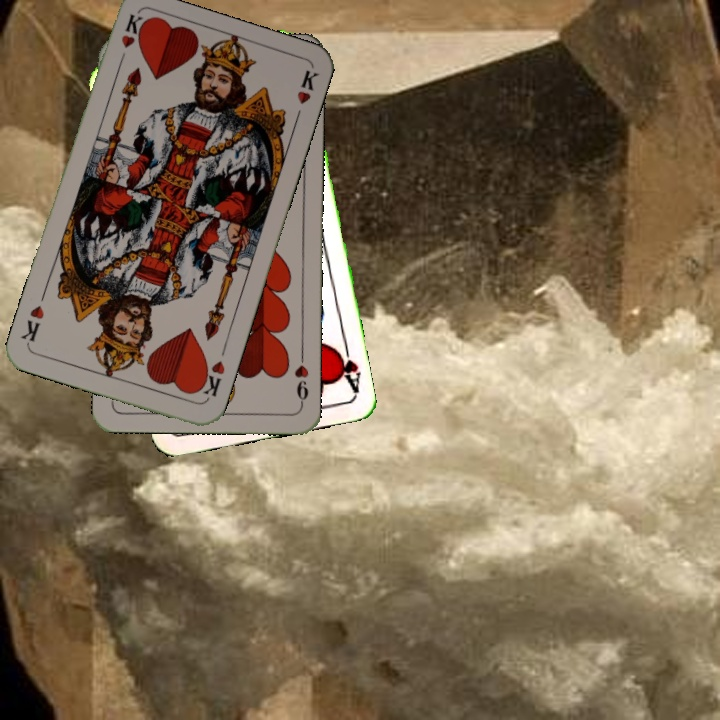H9: (290, 349, 311, 408)
HA: (330, 338, 363, 397)
HK: (114, 11, 145, 70), (194, 356, 228, 402)
